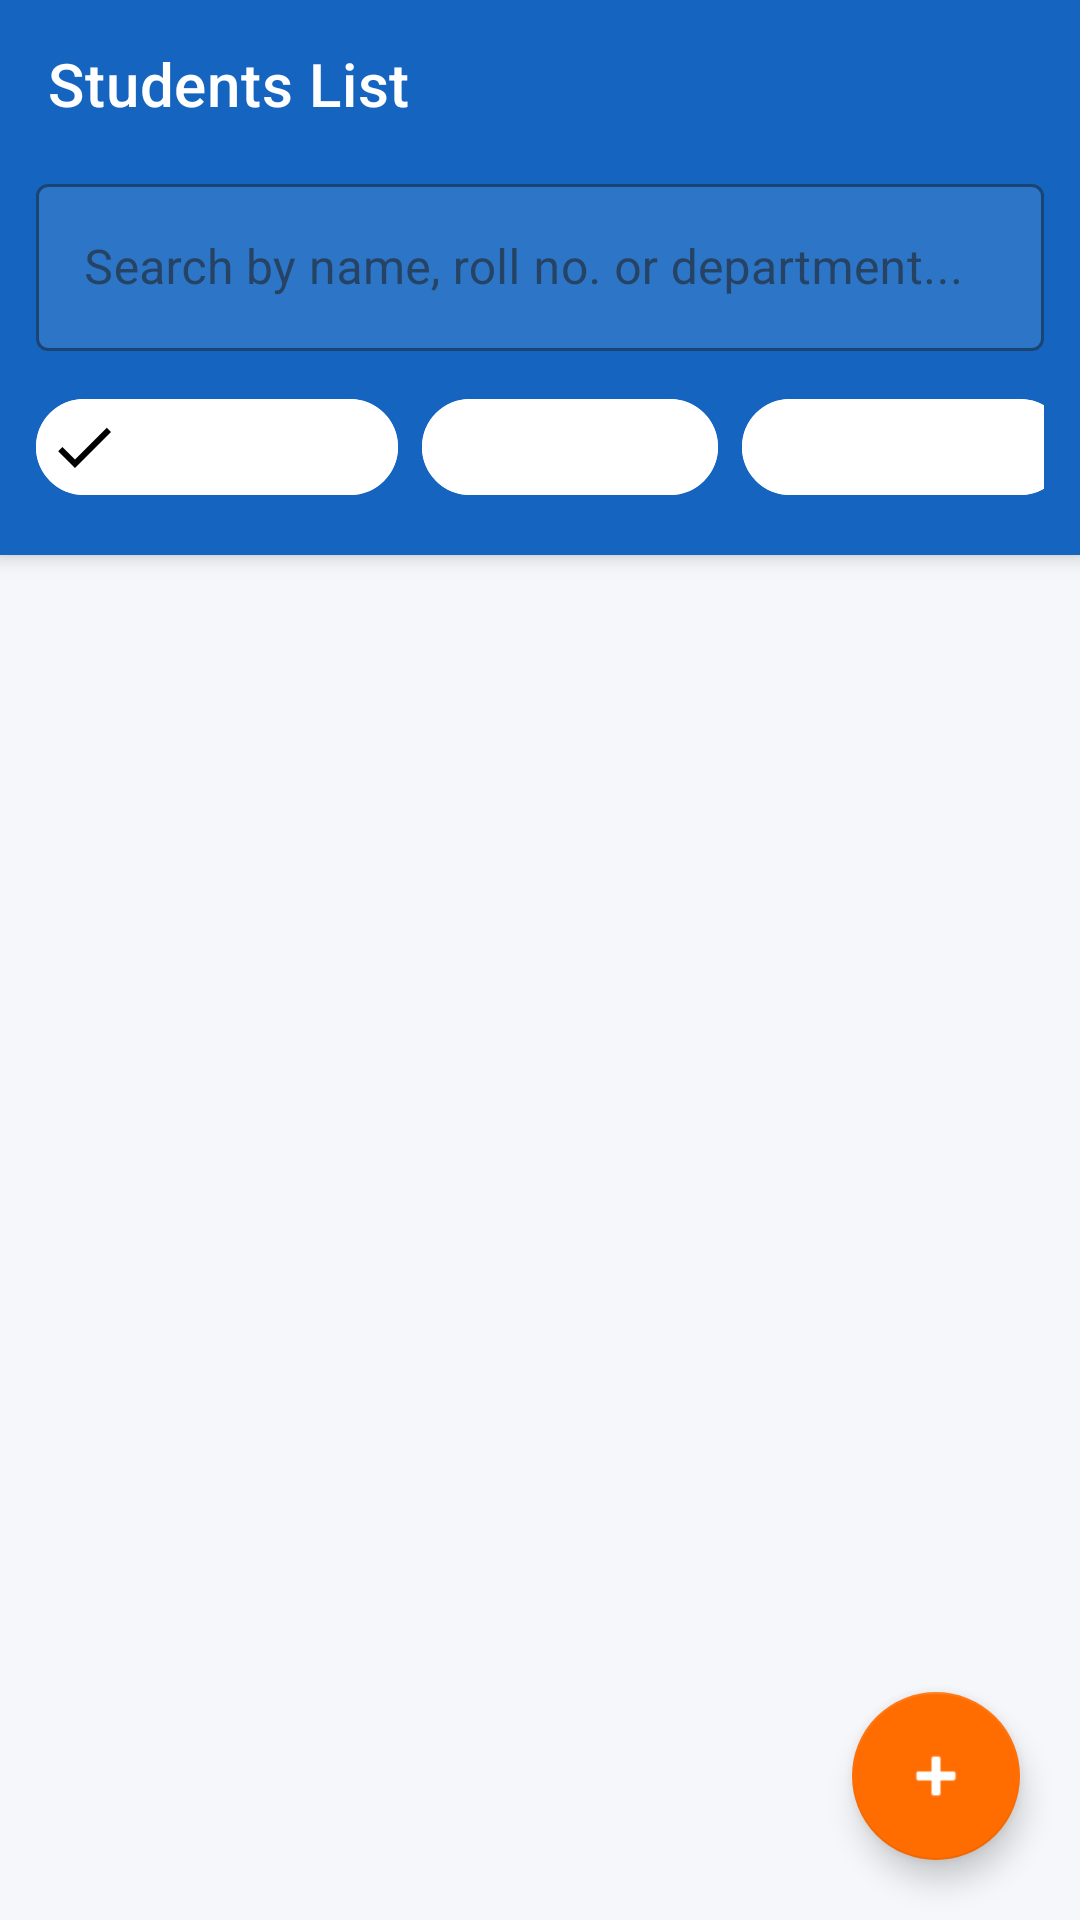

Icons on this 1080×1920 Android screen, each with its box as Rect(x1, y1, x2, y2):
Add Student: Rect(852, 1692, 1020, 1860)
